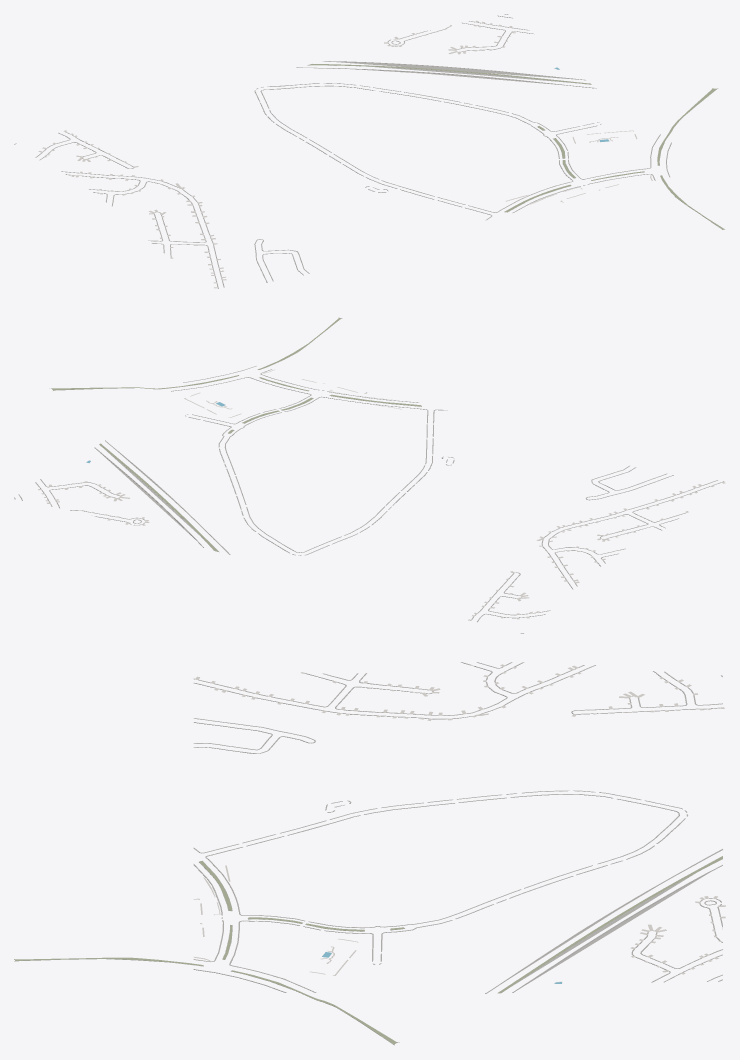
Rendered from ground_r7_c7.glb.
3 renders of one model, top to bottom at view 1: azimuth 30°, elevation 25°; view 2: azimuth 150°, elevation 25°; view 3: azimuth 270°, elevation 25°, orthographic. The views are drawn at different scales.
Visible parts, largest first — view 1: sidewalks, medians, driveways; view 2: sidewalks, medians, driveways; view 3: sidewalks, medians, driveways.
Part boxes in pixels (left/top/right/bottom): sidewalks: left=14, top=14, right=671, bottom=288; medians: left=309, top=64, right=724, bottom=229; driveways: left=38, top=20, right=515, bottom=288; sidewalks: left=14, top=366, right=724, bottom=633; medians: left=51, top=317, right=421, bottom=551; driveways: left=38, top=481, right=725, bottom=620; sidewalks: left=193, top=662, right=722, bottom=993; medians: left=14, top=856, right=722, bottom=1045; driveways: left=195, top=664, right=725, bottom=974.
Bounding box in the file's own units: 1329 × 44.57 × 1059.
